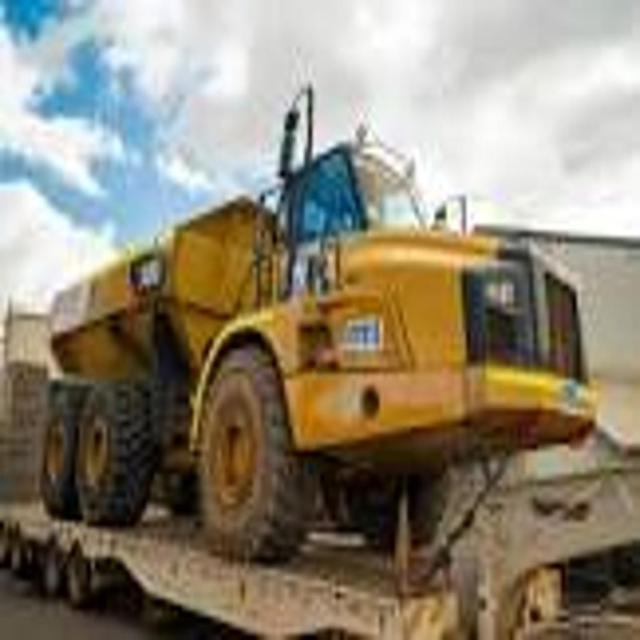dump_truck: (43, 117, 597, 570)
